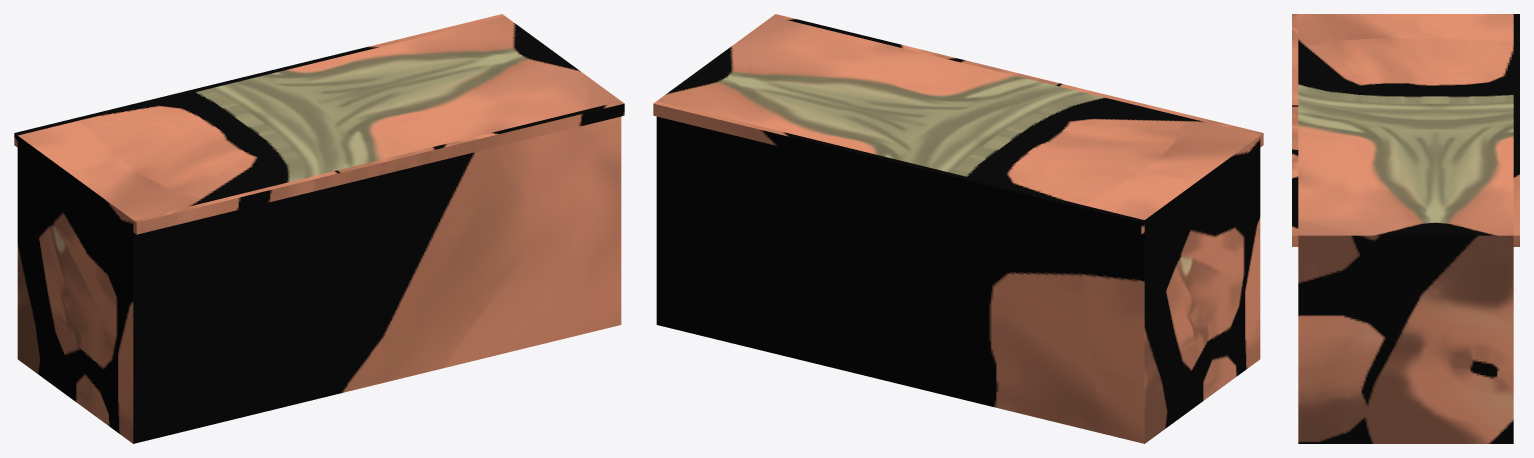
The model's file is Rampart_Top_01.fbx.
3 renders of one model, left to right at view 1: azimuth 30°, elevation 25°; view 2: azimuth 150°, elevation 25°; view 3: azimuth 270°, elevation 25°, orthographic. The views are drawn at different scales.
Parts seen in each view (by area): view 1: Rampart_Top_01; view 2: Rampart_Top_01; view 3: Rampart_Top_01.
Boxes of the visible parts, x1,y1,x2,y2 form: Rampart_Top_01: (14, 14, 624, 443); Rampart_Top_01: (653, 14, 1263, 443); Rampart_Top_01: (1292, 14, 1519, 443).
Bounding box in the file's own units: 3.5 × 1.53 × 1.52.
